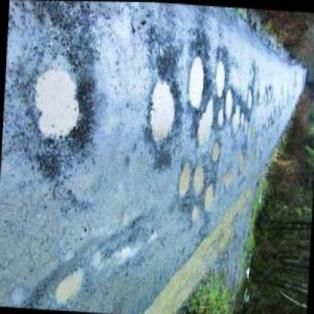Hueco: (29, 66, 96, 151), (147, 78, 178, 143), (55, 267, 88, 308), (187, 54, 206, 111), (176, 160, 192, 200), (212, 59, 227, 98), (222, 87, 235, 121), (192, 165, 205, 194), (204, 184, 216, 212), (231, 105, 241, 134), (211, 139, 221, 162), (244, 88, 254, 109), (191, 203, 201, 223)
